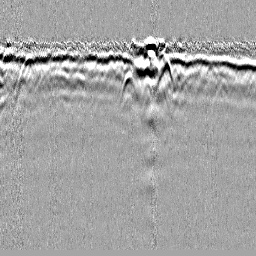cavity: (120, 70, 138, 101)
